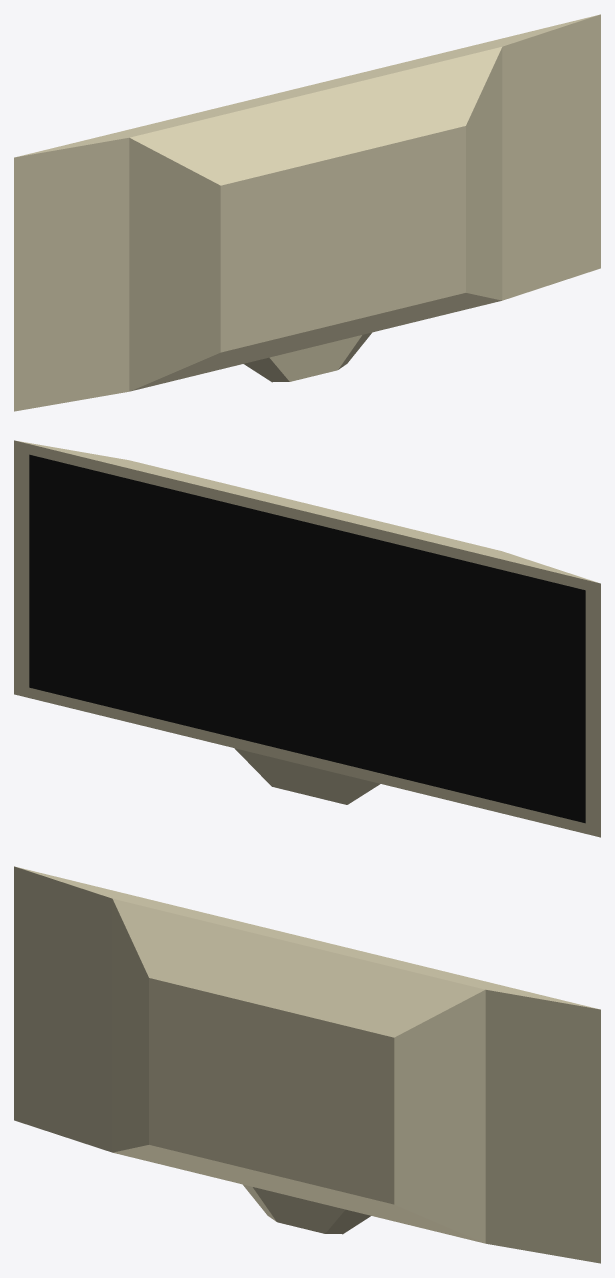
Rendered from televisi.fbx.
3 views of the same model, one above another, from view 1: azimuth 30°, elevation 25°; view 2: azimuth 150°, elevation 25°; view 3: azimuth 330°, elevation 25° (orthographic).
Visible parts, largest first — view 1: Plane.002; view 2: Plane.002; view 3: Plane.002.
Boxes of the visible parts, bbox=[...] form: Plane.002: bbox=[14, 14, 600, 411]; Plane.002: bbox=[14, 440, 600, 837]; Plane.002: bbox=[14, 866, 600, 1263].
Bounding box in the file's own units: 381 × 177 × 40.35.
